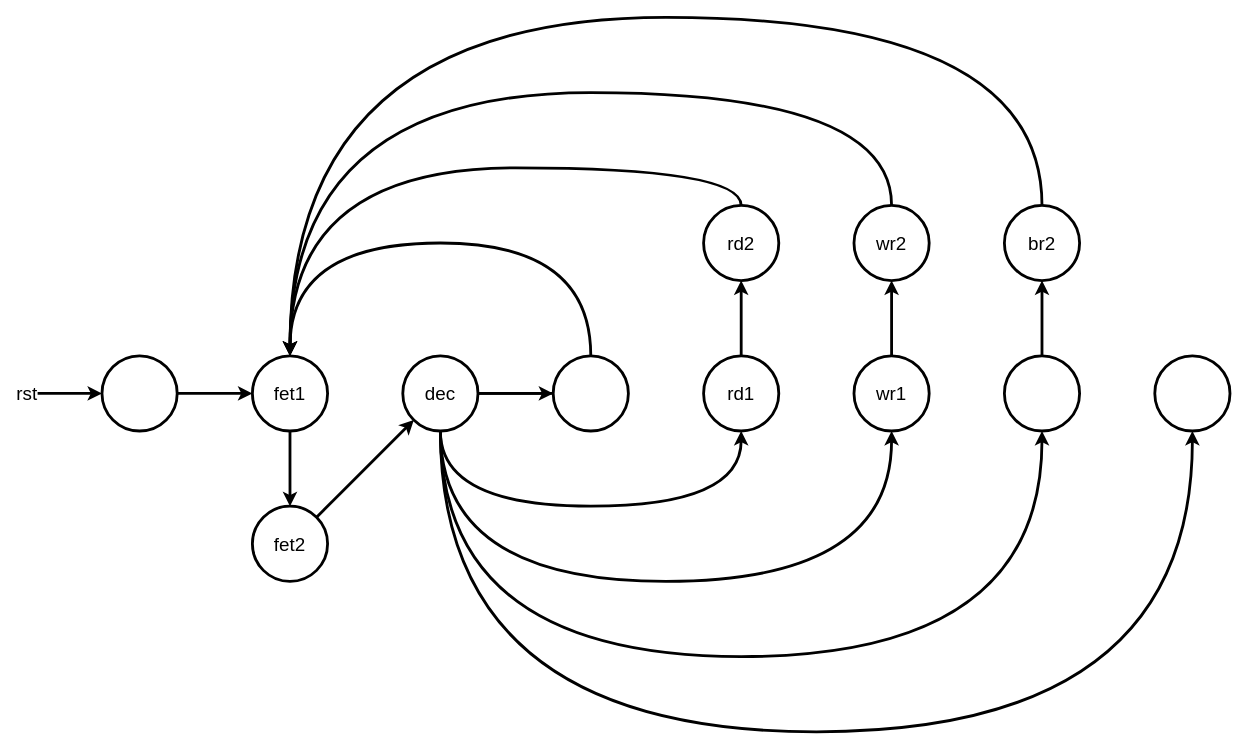
Image size: 1247x749. Some labels were removed from this diagram. Here are the shapes that lost their labels. From the top down, the box of each, then its label:
(100, 354, 178, 432): idle
(551, 354, 629, 432): exe
(1003, 354, 1081, 432): br1
(1153, 354, 1231, 432): halt
